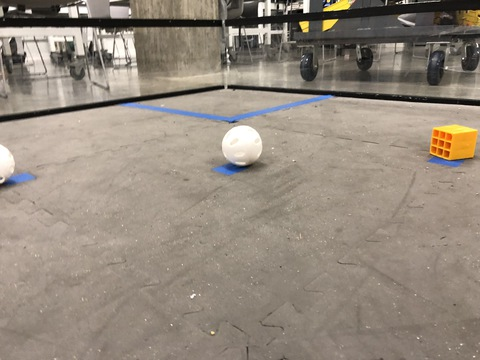ball: (216, 125, 269, 168), (1, 133, 22, 196)
block: (417, 114, 480, 176)
